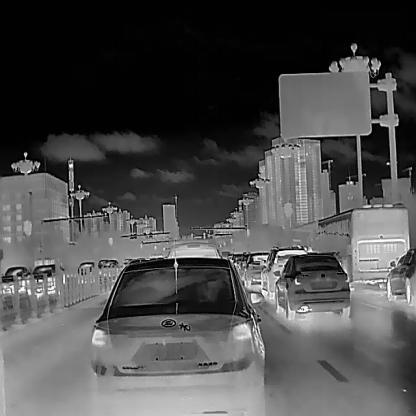car: (88, 255, 267, 415), (318, 203, 410, 289), (272, 253, 350, 321), (260, 245, 309, 299), (385, 248, 415, 307), (31, 263, 67, 294), (242, 250, 269, 290), (0, 265, 32, 296), (77, 261, 100, 276), (238, 255, 250, 280), (104, 260, 120, 276), (122, 258, 132, 268)
